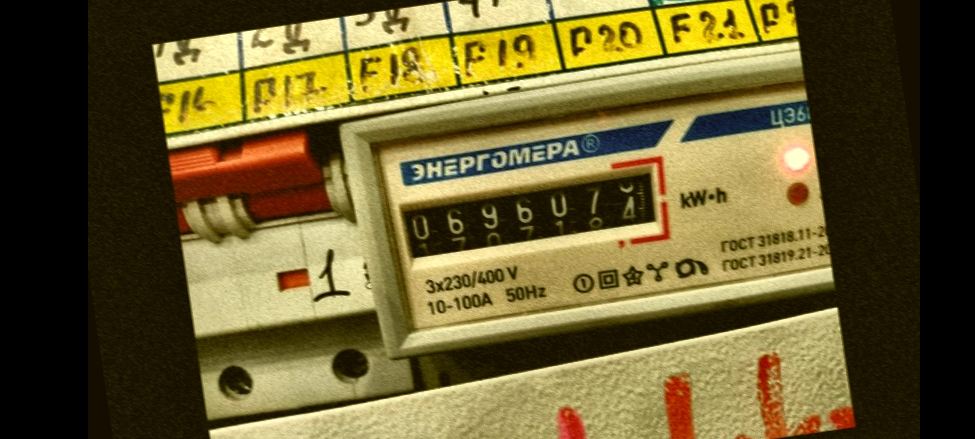0: (408, 210, 433, 242), (547, 186, 571, 219)
4: (616, 193, 639, 223)
6: (442, 204, 468, 236), (513, 194, 536, 224)
7: (582, 183, 603, 215)
9: (479, 200, 501, 231)
screen: (381, 148, 676, 278)
